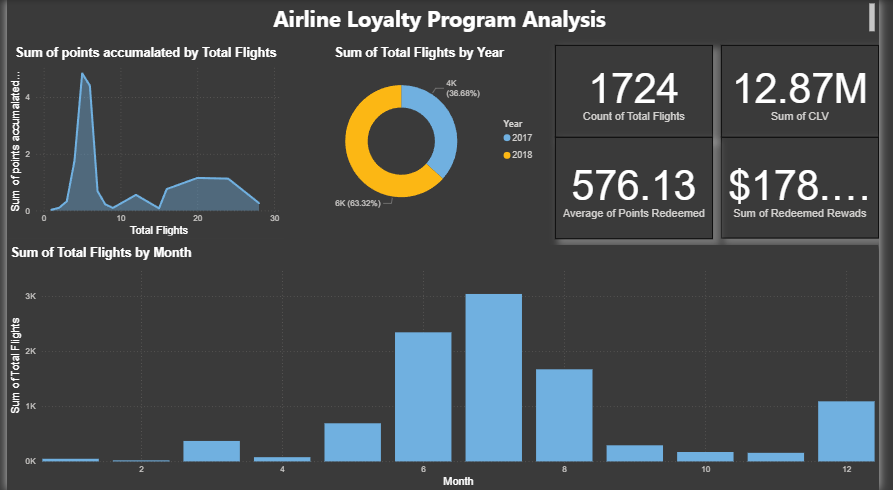

The dashboard page shown, as its layout file describes it:
{"tool":"powerbi","page":{"name":"Page 1","canvas":[1280,720],"ordinal":0},"visuals":[{"type":"card","fields":{"Values":["CountNonNull(Customer_Flight_Activity[1].Total Flights)"]},"box":[805.1,65.7,231.5,135.9],"z":0},{"type":"textbox","box":[0,0,1280,52.1],"z":1000},{"type":"card","fields":{"Values":["Sum(Customer_Loyalty_History[1].CLV)"]},"box":[1048.6,65.7,231.5,135.9],"z":2000},{"type":"card","fields":{"Values":["Sum(Customer_Flight_Activity[1].Redeemed Rewads)"]},"box":[1048.6,201.7,231.5,149.4],"z":3000},{"type":"card","fields":{"Values":["Avg(Customer_Flight_Activity[1].Points Redeemed)"]},"box":[804.6,201.6,231.8,149.5],"z":4000},{"type":"lineStackedColumnComboChart","fields":{"Category":["Customer_Flight_Activity[1].Month"],"Y":["Sum(Customer_Flight_Activity[1].Total Flights)"]},"box":[0,360,1279.8,360],"z":5000},{"type":"donutChart","fields":{"Category":["Customer_Flight_Activity[1].Year"],"Y":["Sum(Customer_Flight_Activity[1].Total Flights)"]},"box":[424.7,66.1,361.5,261.6],"z":6000},{"type":"areaChart","title":"Sum of points accumalated by Total Flights","fields":{"Category":["Customer_Flight_Activity[1].Total Flights"],"Y":["Calendar[1].Sum of points accumalated(million)"]},"box":[0,65.7,407.8,285.3],"z":7000}]}

Visuals, with their boxes in screenshot pixels (x1, y1, x2, y2), scaled from the page's 1280x720 canvas onto the 893x490 screenshot:
card - CountNonNull(Customer_Flight_Activity[1].Total Flights): <box>562,45,723,137</box>
textbox: <box>0,0,892,35</box>
card - Sum(Customer_Loyalty_History[1].CLV): <box>732,45,892,137</box>
card - Sum(Customer_Flight_Activity[1].Redeemed Rewads): <box>732,137,892,239</box>
card - Avg(Customer_Flight_Activity[1].Points Redeemed): <box>561,137,723,239</box>
lineStackedColumnComboChart - Customer_Flight_Activity[1].Month x Sum(Customer_Flight_Activity[1].Total Flights): <box>0,245,892,489</box>
donutChart - Customer_Flight_Activity[1].Year x Sum(Customer_Flight_Activity[1].Total Flights): <box>296,45,548,223</box>
"Sum of points accumalated by Total Flights" areaChart: <box>0,45,285,239</box>
